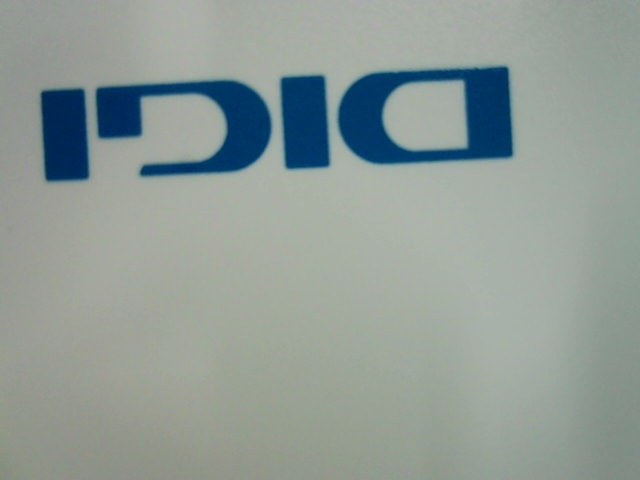BL_DIGI: (23, 52, 537, 178)
